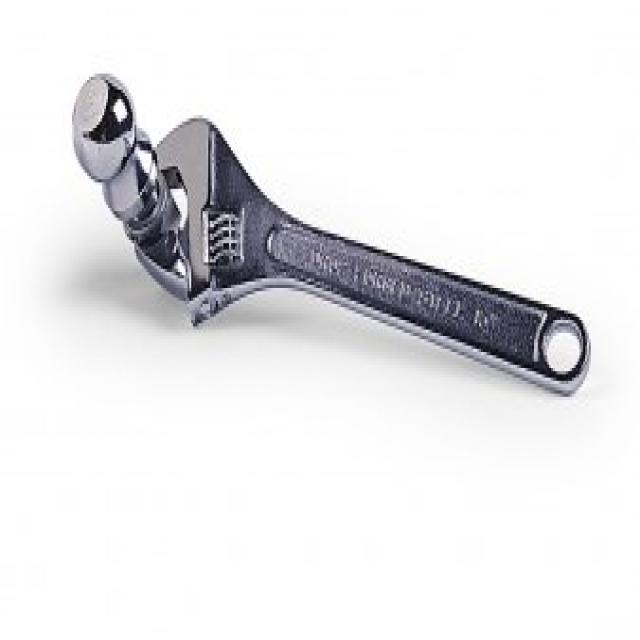wrench: (135, 108, 600, 417)
